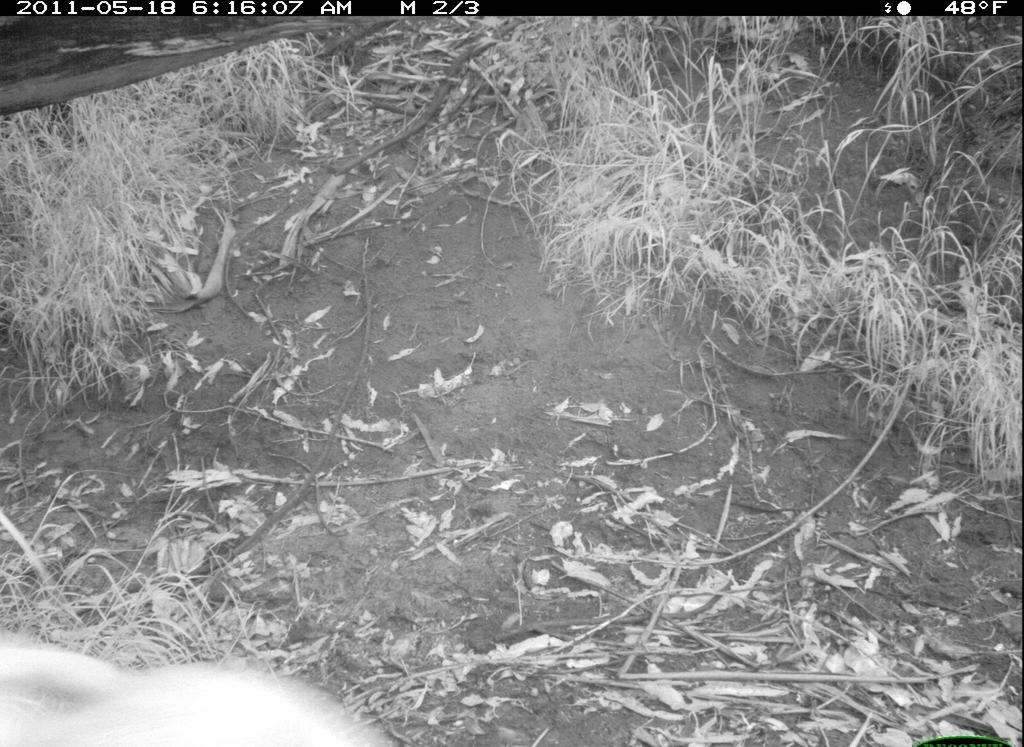dog: (1, 625, 418, 747)
